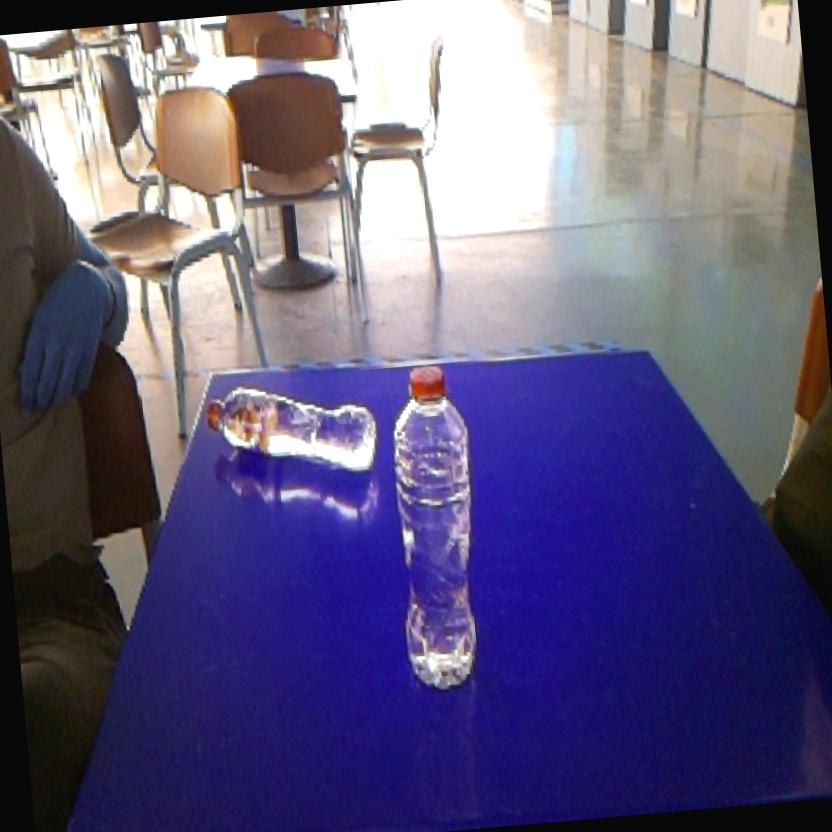no_label: (375, 354, 500, 700)
